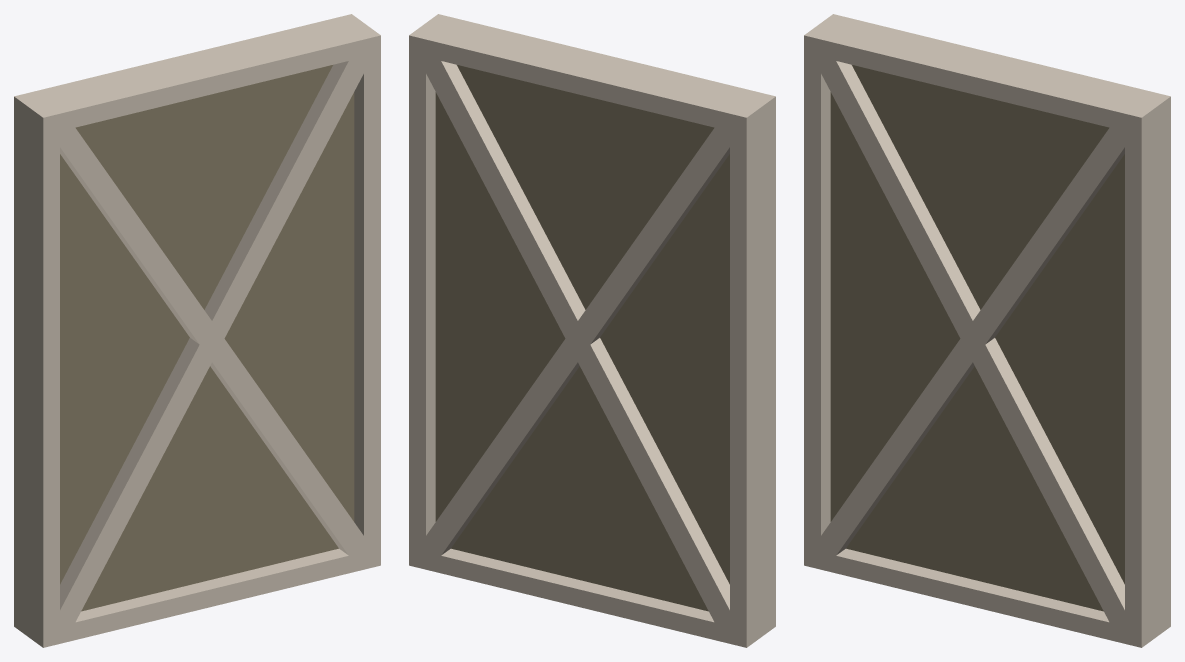
File: BarnDoor.fbx
3 views of the same model, side by side, from view 1: azimuth 30°, elevation 25°; view 2: azimuth 150°, elevation 25°; view 3: azimuth 330°, elevation 25° (orthographic).
Parts seen in each view (by area): view 1: DoorLeft; view 2: DoorLeft; view 3: DoorLeft.
Boxes of the visible parts, <box> form: DoorLeft: <box>14,14,380,647</box>; DoorLeft: <box>409,14,775,647</box>; DoorLeft: <box>804,14,1170,647</box>.
Bounding box in the file's own units: 4 × 6 × 0.6.
